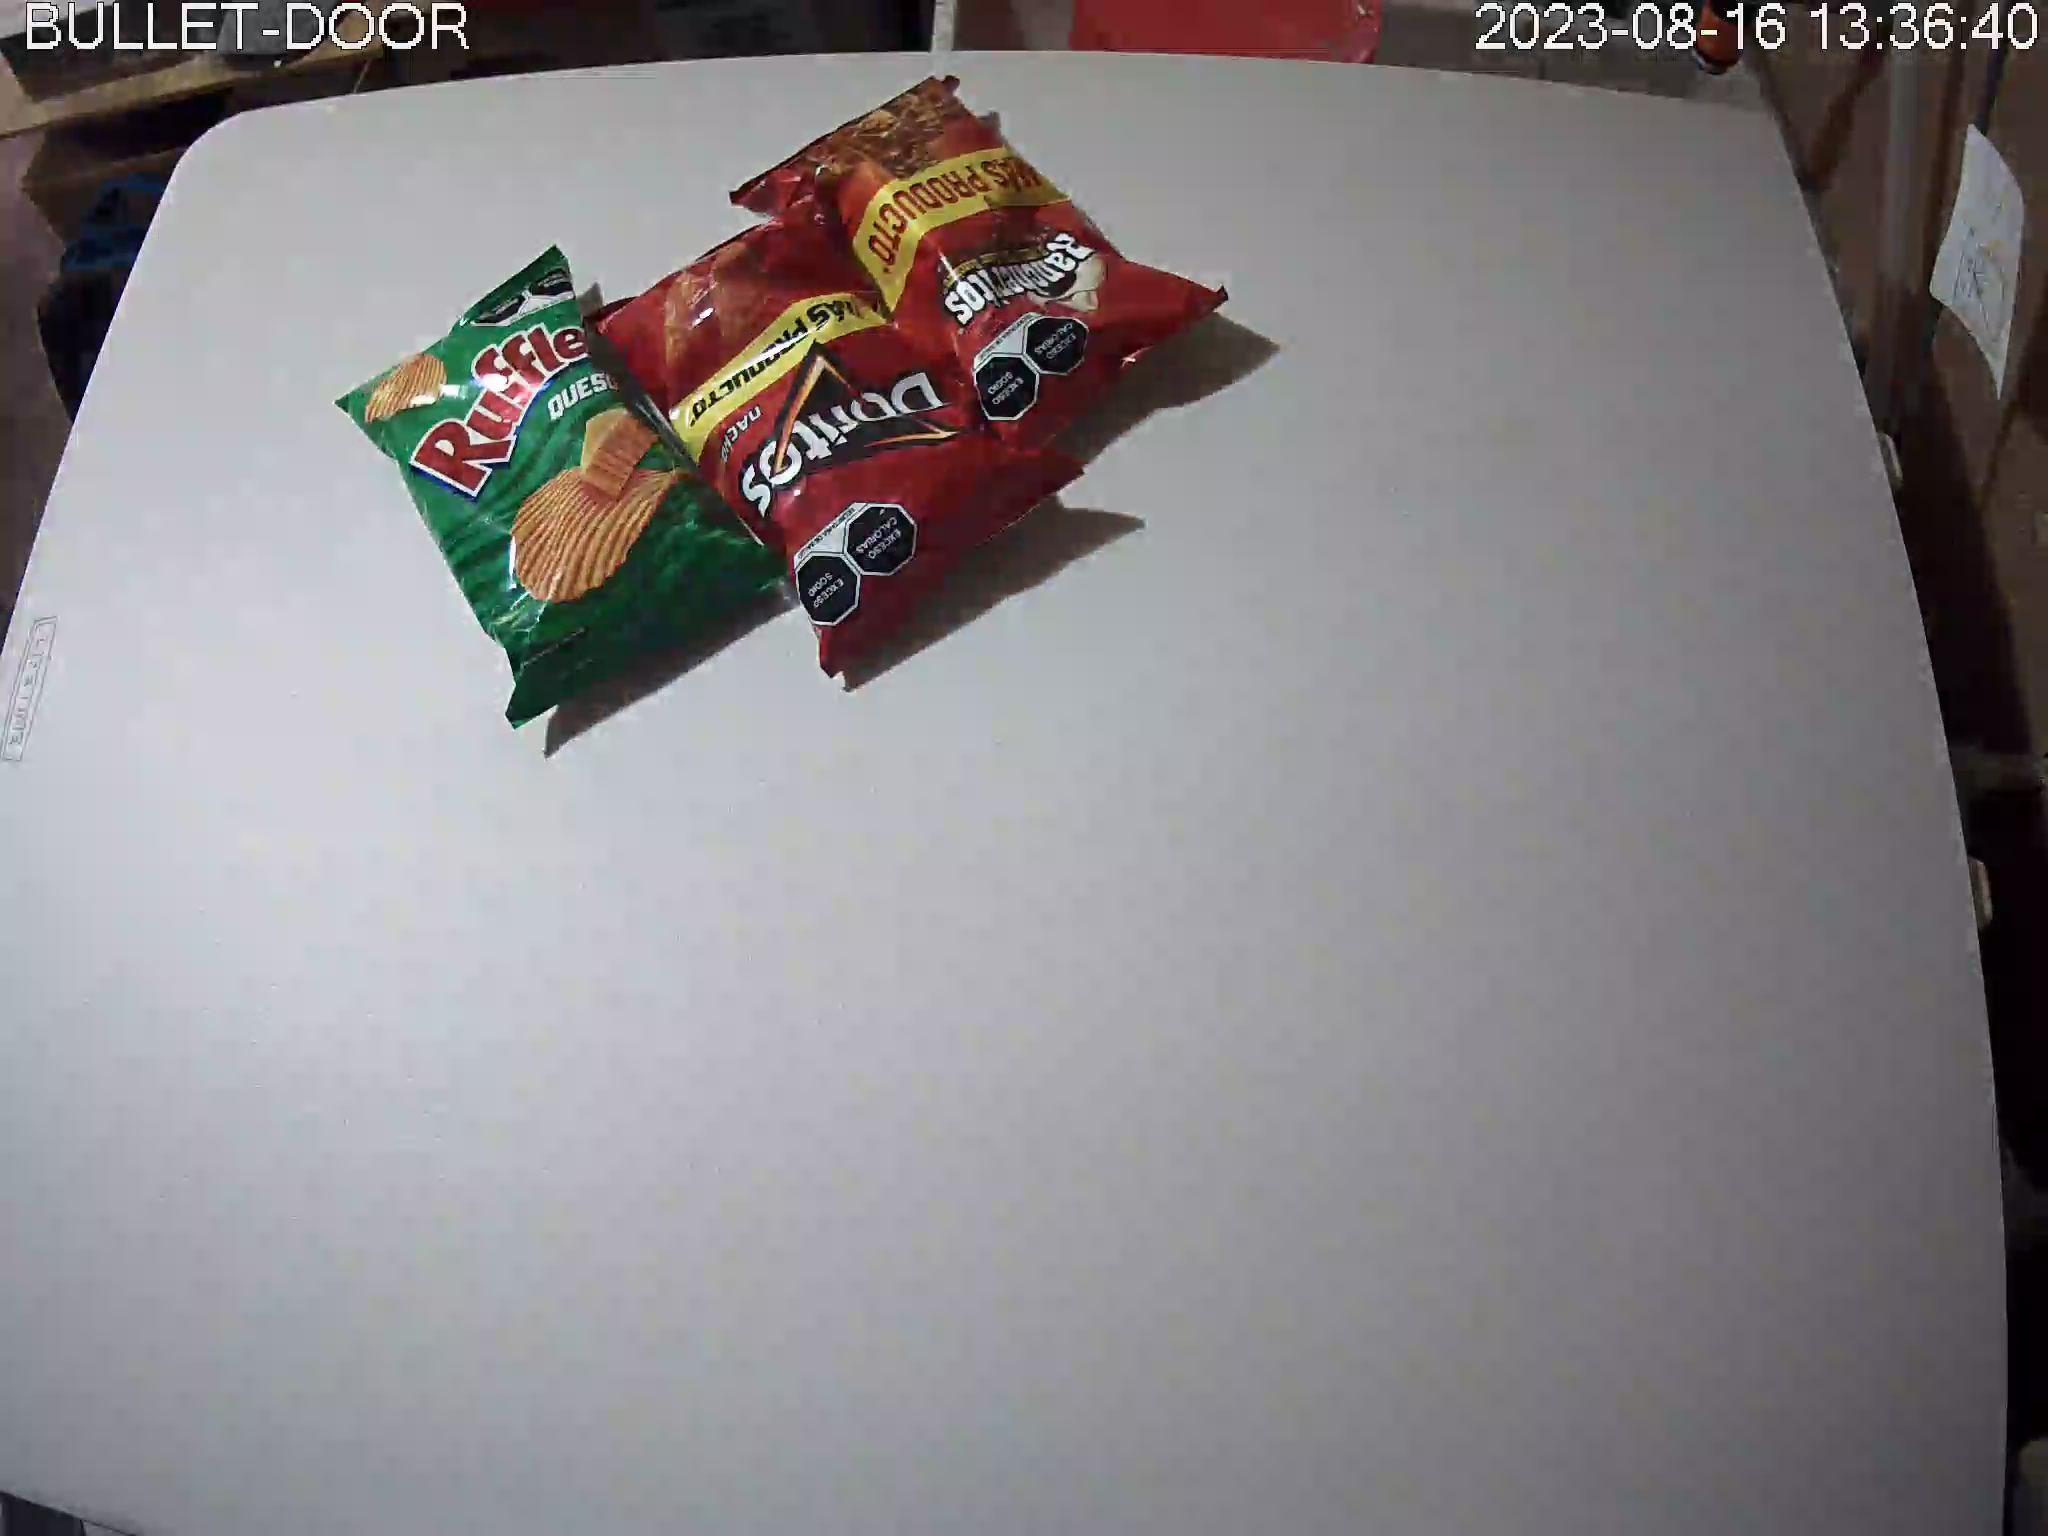DoritosN_61_F: (584, 177, 1085, 678)
Rancheritos_58_F: (726, 71, 1230, 461)
RufflesQ_48_F: (332, 240, 801, 729)
